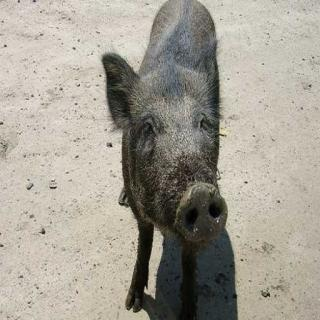Pig: (86, 0, 275, 320)
